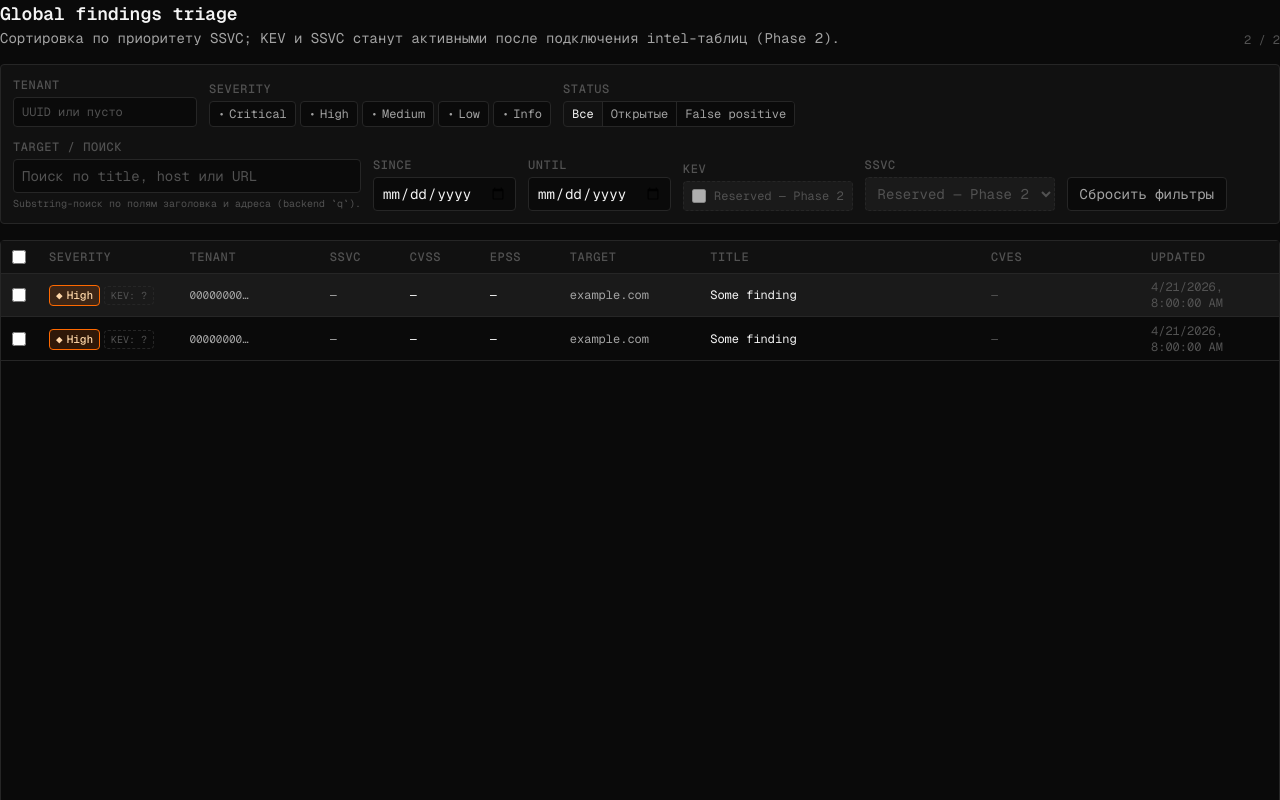
Scenario: AdminFindingsClient — bulk actions (T21) › partial-success response renders a yellow warning banner with the breakdown
The width and height of the screenshot is (1280, 800).
Click the 8th checkbox at (19, 295), box [12,288,26,302]
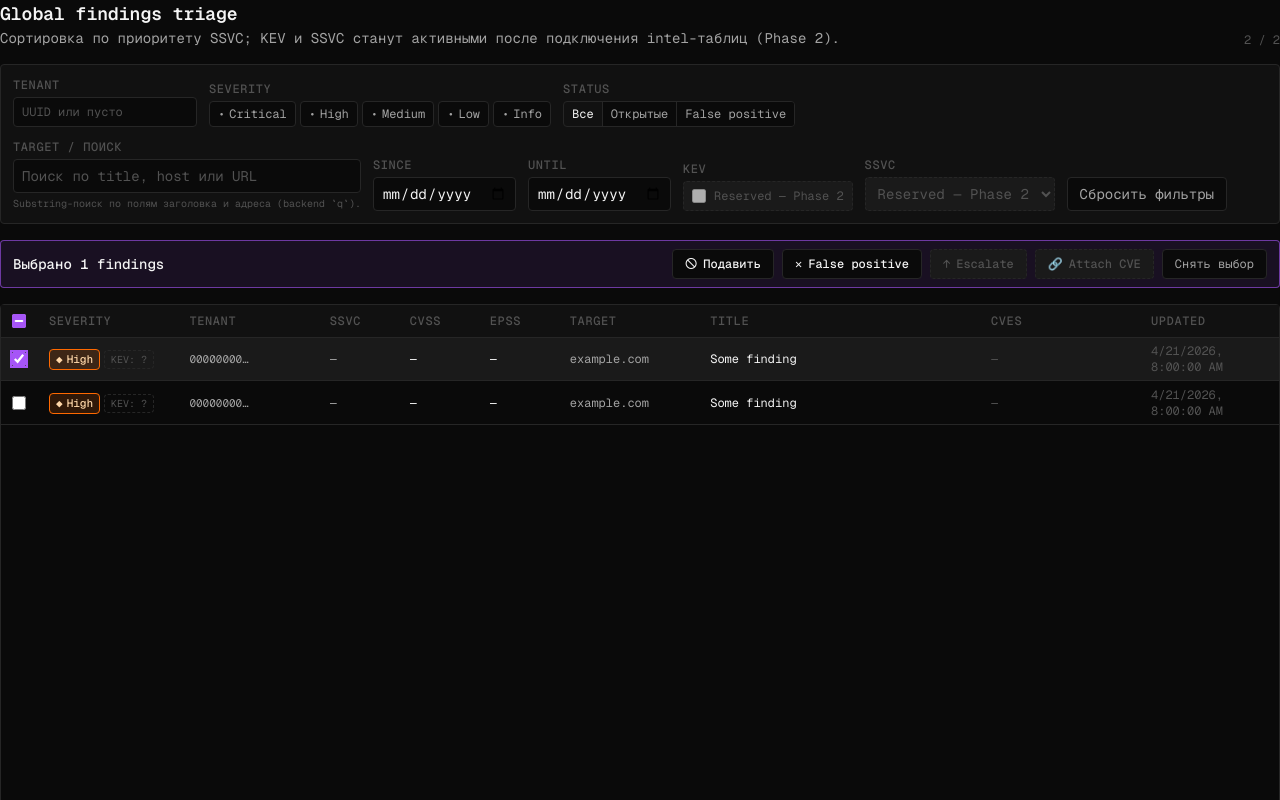
Click the 9th checkbox at (19, 403), box [12,396,26,410]
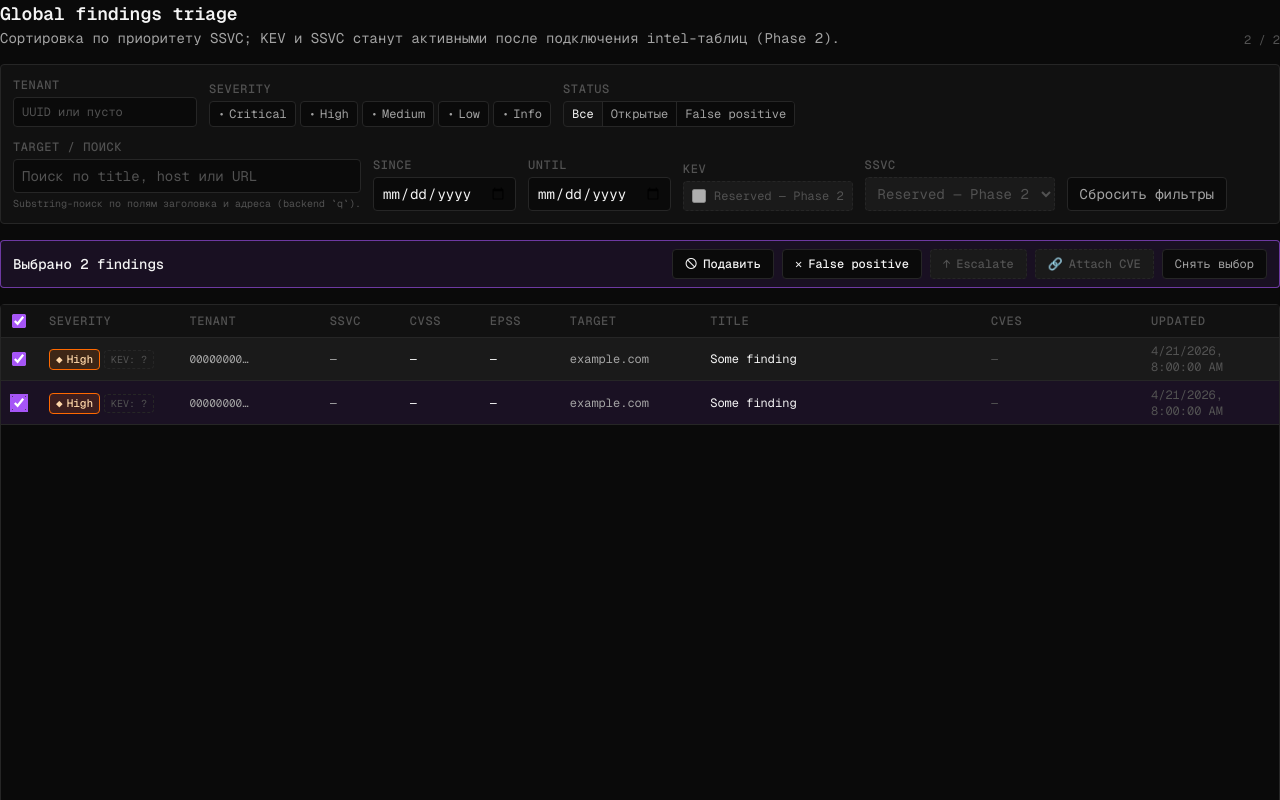
Click the button with test id "bulk-action-suppress" at (723, 264), box [672,249,774,279]
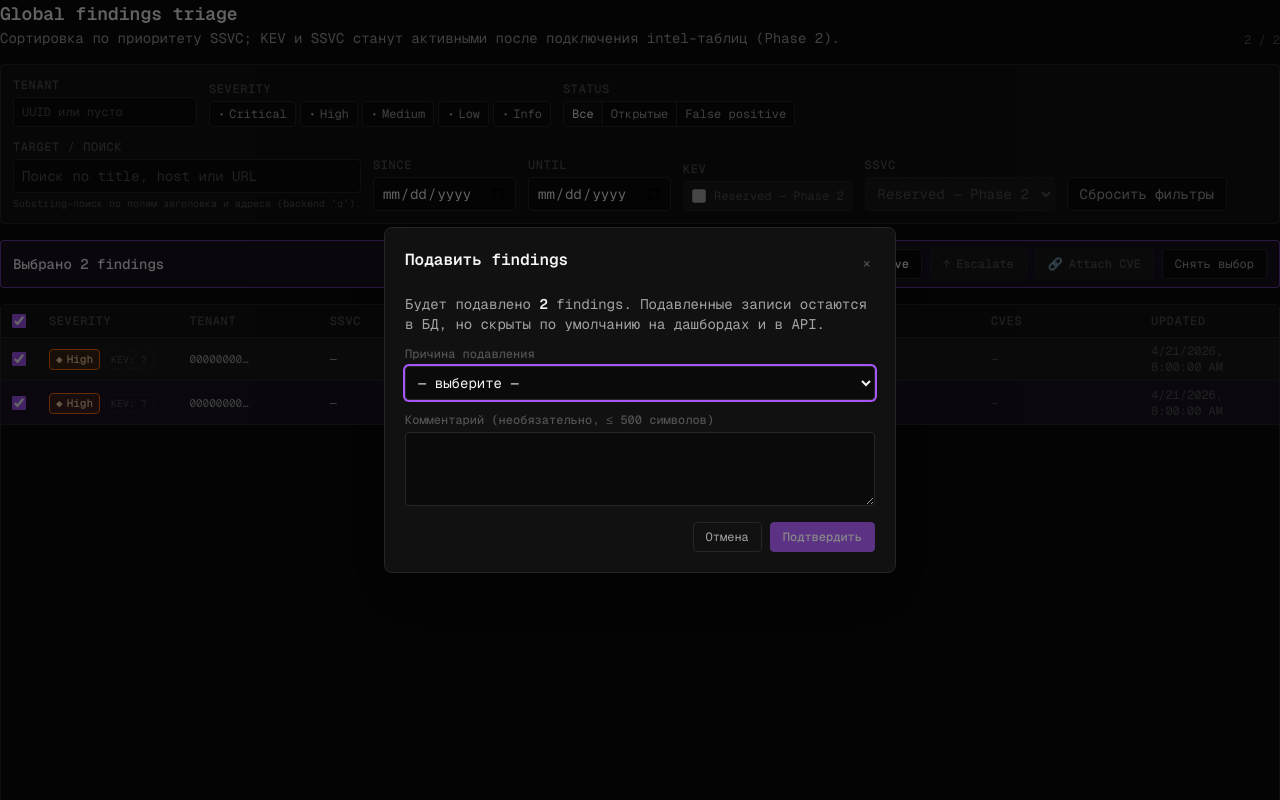
Select "Дубликат" in the dropdown with test id "bulk-suppress-reason" at (640, 383), box [405,366,875,400]
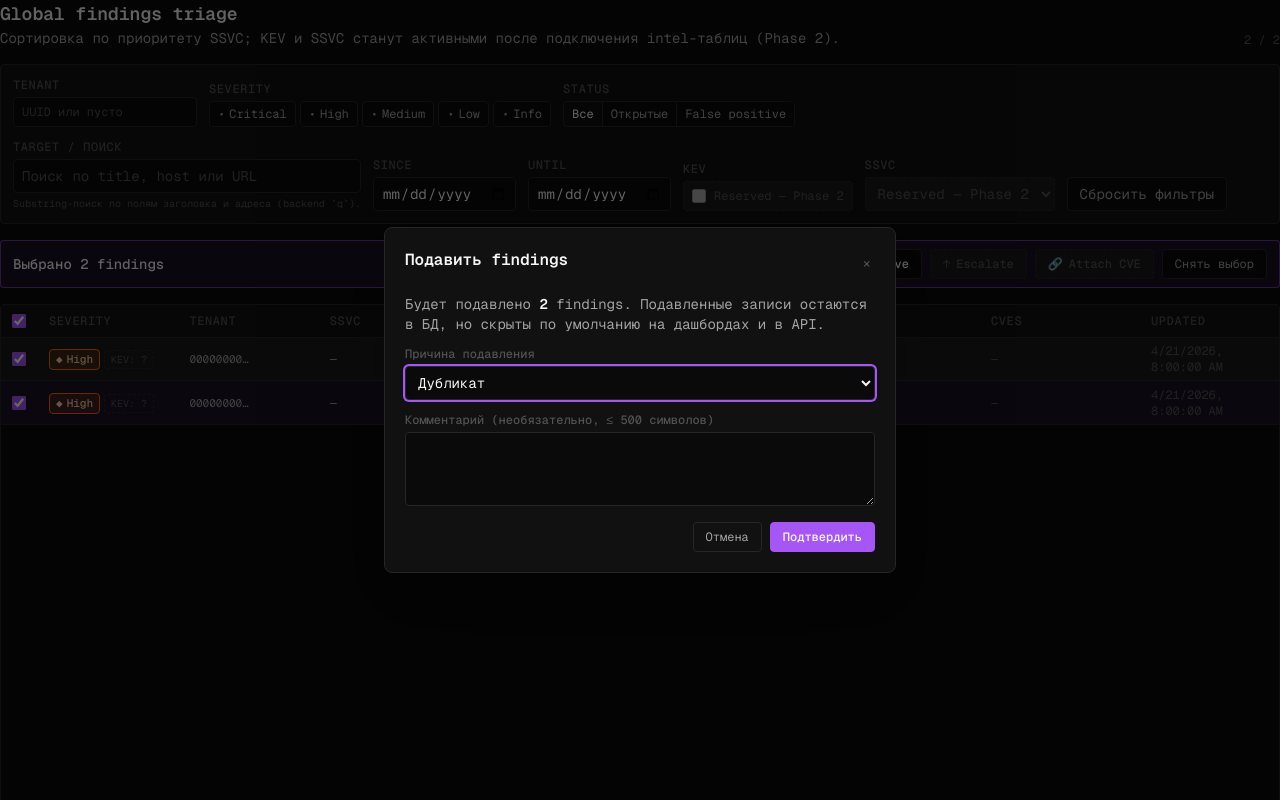
Click the button with test id "bulk-action-dialog-confirm" at (822, 537), box [770,522,875,552]
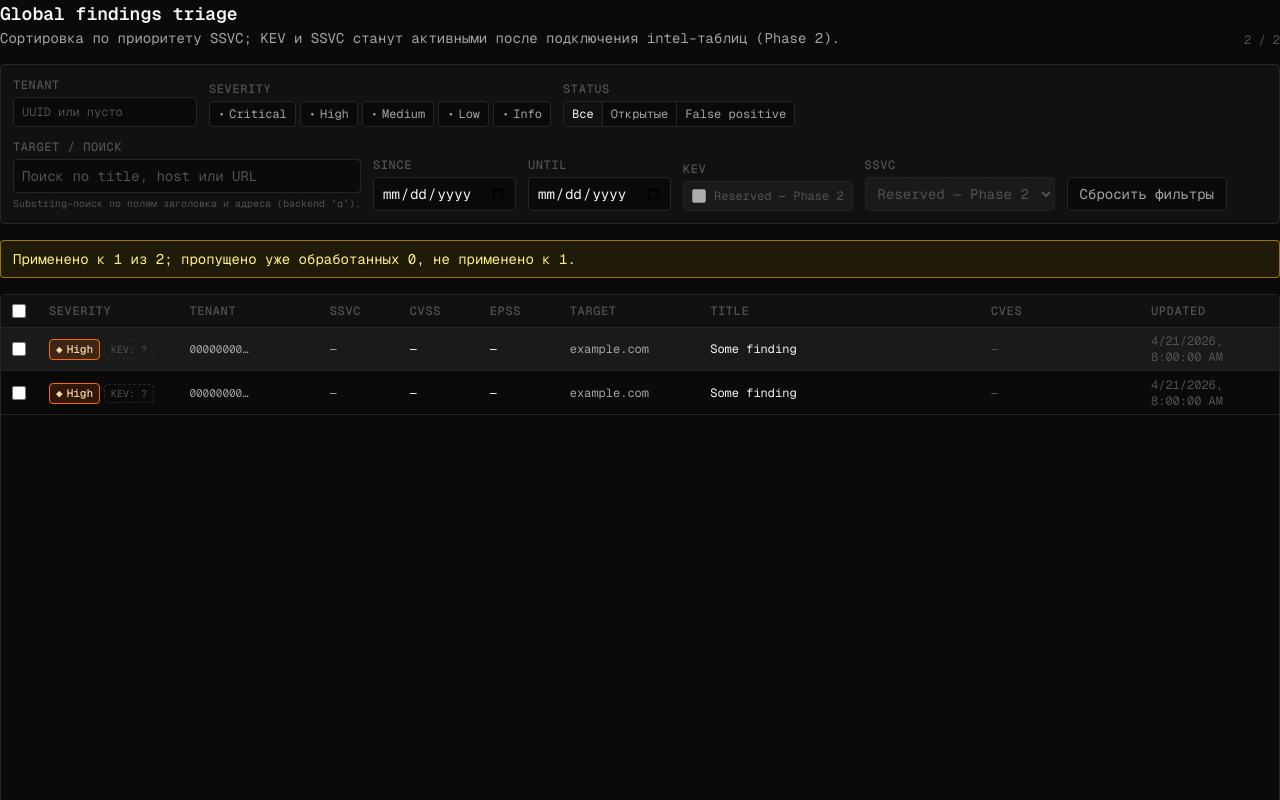
Expected: the message with test id "bulk-action-banner" shows "Применено к 1 из 2", [13,250,576,268]
Expected: the message with test id "bulk-action-banner" shows "не применено к 1", [13,250,576,268]
